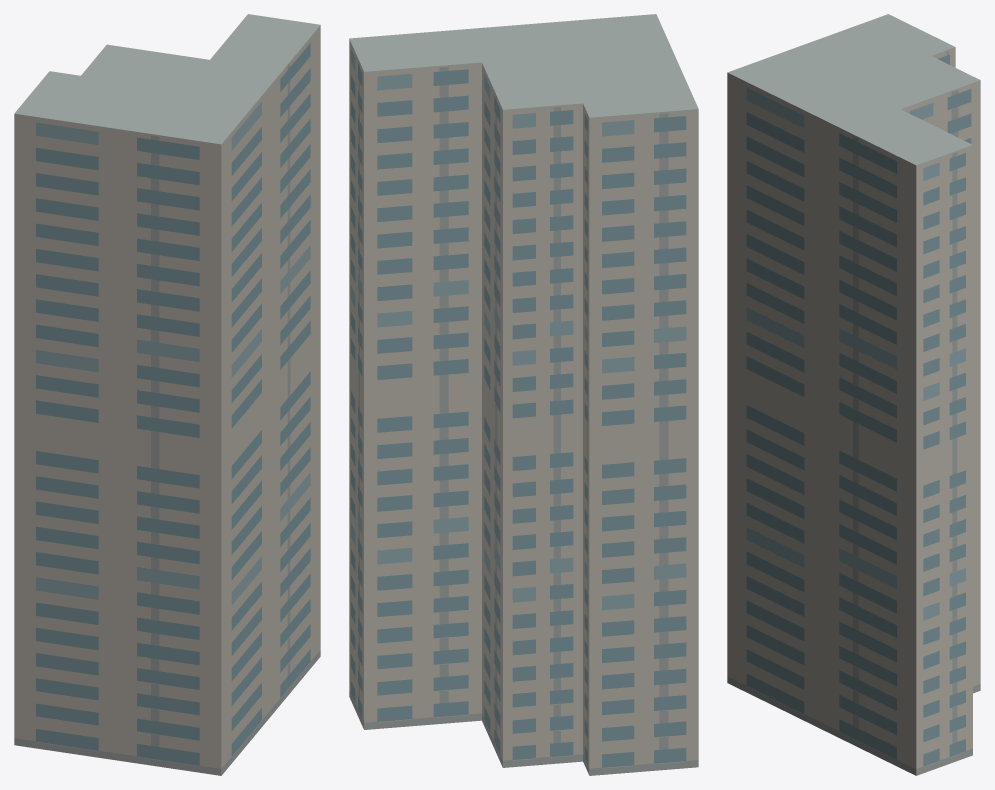
The model's file is residential-fd0f15c6-a2b5-4132-85cf-872c31e9f03f.glb.
3 views of the same model, side by side, from view 1: azimuth 30°, elevation 25°; view 2: azimuth 150°, elevation 25°; view 3: azimuth 270°, elevation 25° (orthographic). The views are drawn at different scales.
Visible parts, largest first — view 1: residential-fd0f15c6-a2b5-4132-85cf-872c31e9f03f.tmp; view 2: residential-fd0f15c6-a2b5-4132-85cf-872c31e9f03f.tmp; view 3: residential-fd0f15c6-a2b5-4132-85cf-872c31e9f03f.tmp.
Boxes of the visible parts, left/top/right/bottom form: residential-fd0f15c6-a2b5-4132-85cf-872c31e9f03f.tmp: left=14, top=14, right=320, bottom=775; residential-fd0f15c6-a2b5-4132-85cf-872c31e9f03f.tmp: left=349, top=14, right=698, bottom=775; residential-fd0f15c6-a2b5-4132-85cf-872c31e9f03f.tmp: left=727, top=14, right=980, bottom=775.
Bounding box in the file's own units: 50 × 94 × 35.34.
